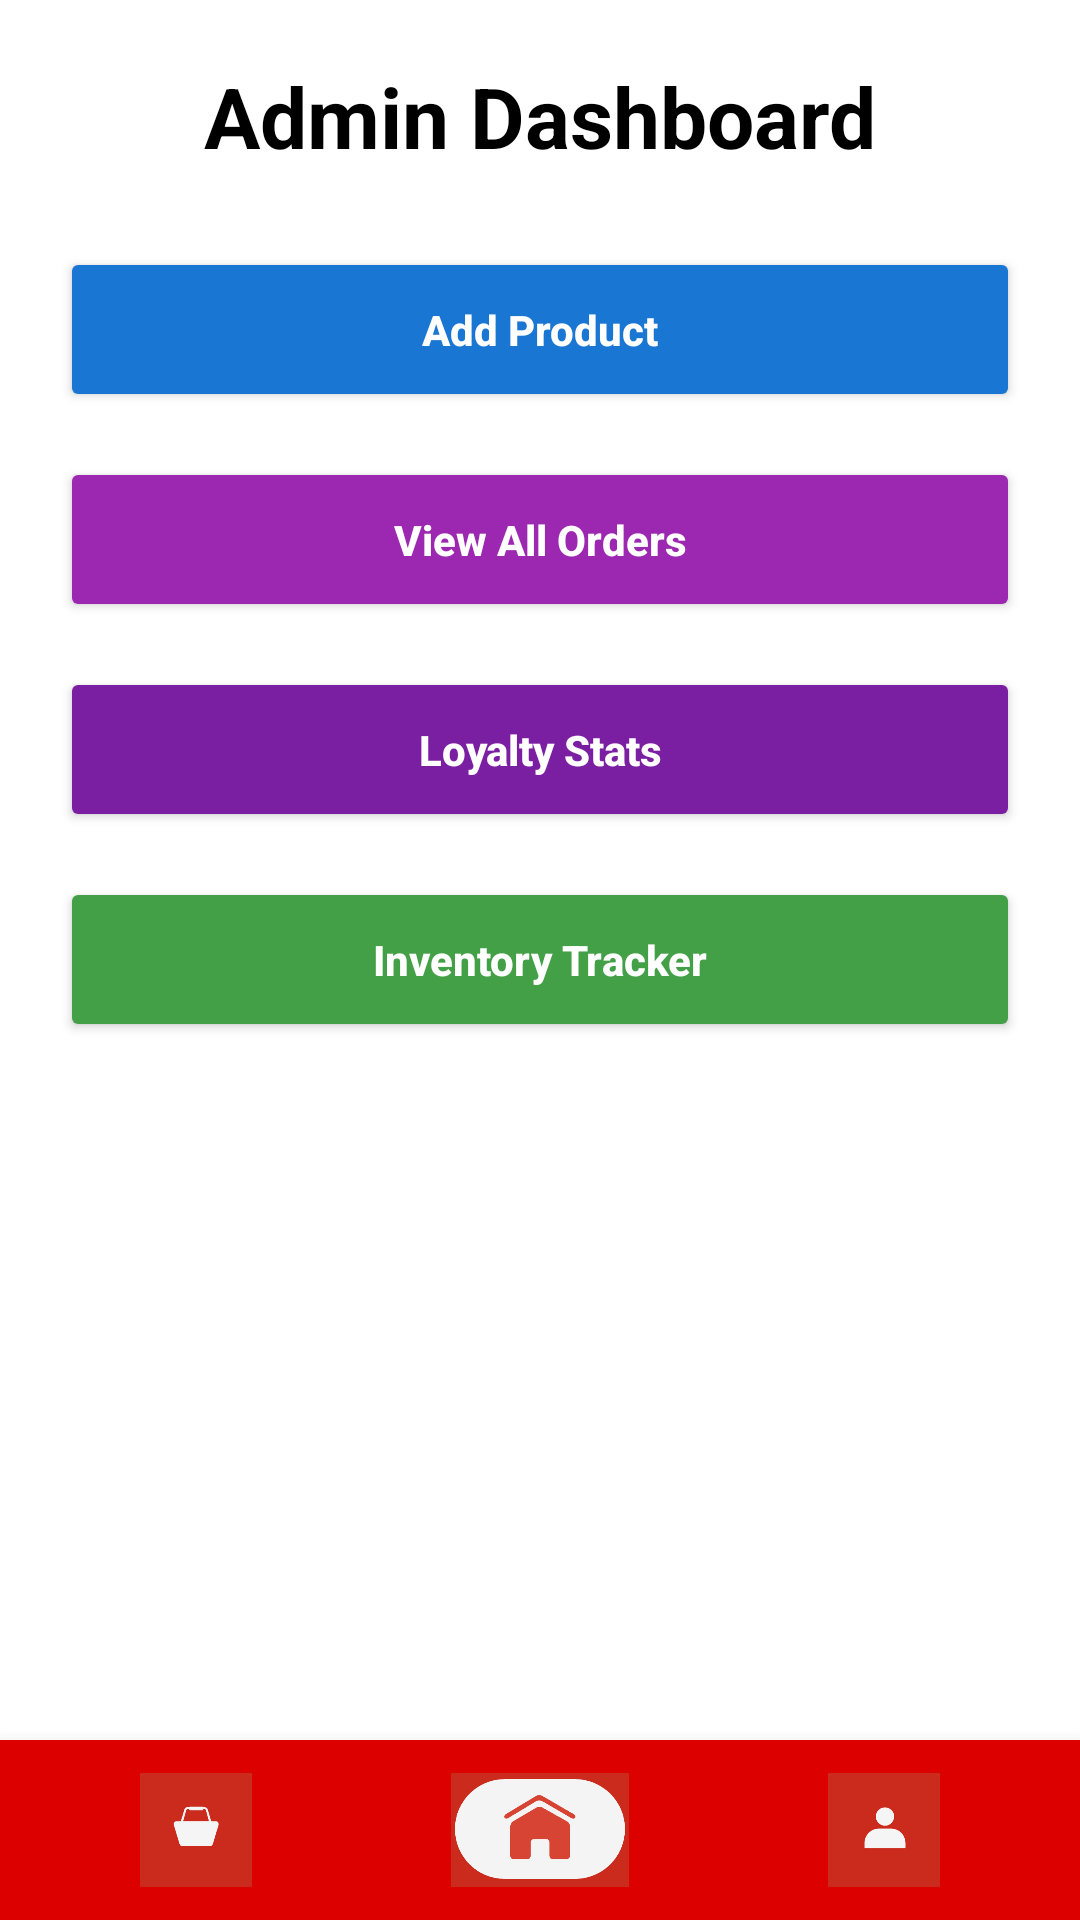

Icon bounding boxes for this 1080×1920 phone screenshot, format [left=x1, top=y1, right=x2, bottom=y2]:
Cart: [left=140, top=1773, right=252, bottom=1887]
Home: [left=451, top=1773, right=629, bottom=1887]
Profile: [left=828, top=1773, right=940, bottom=1887]
